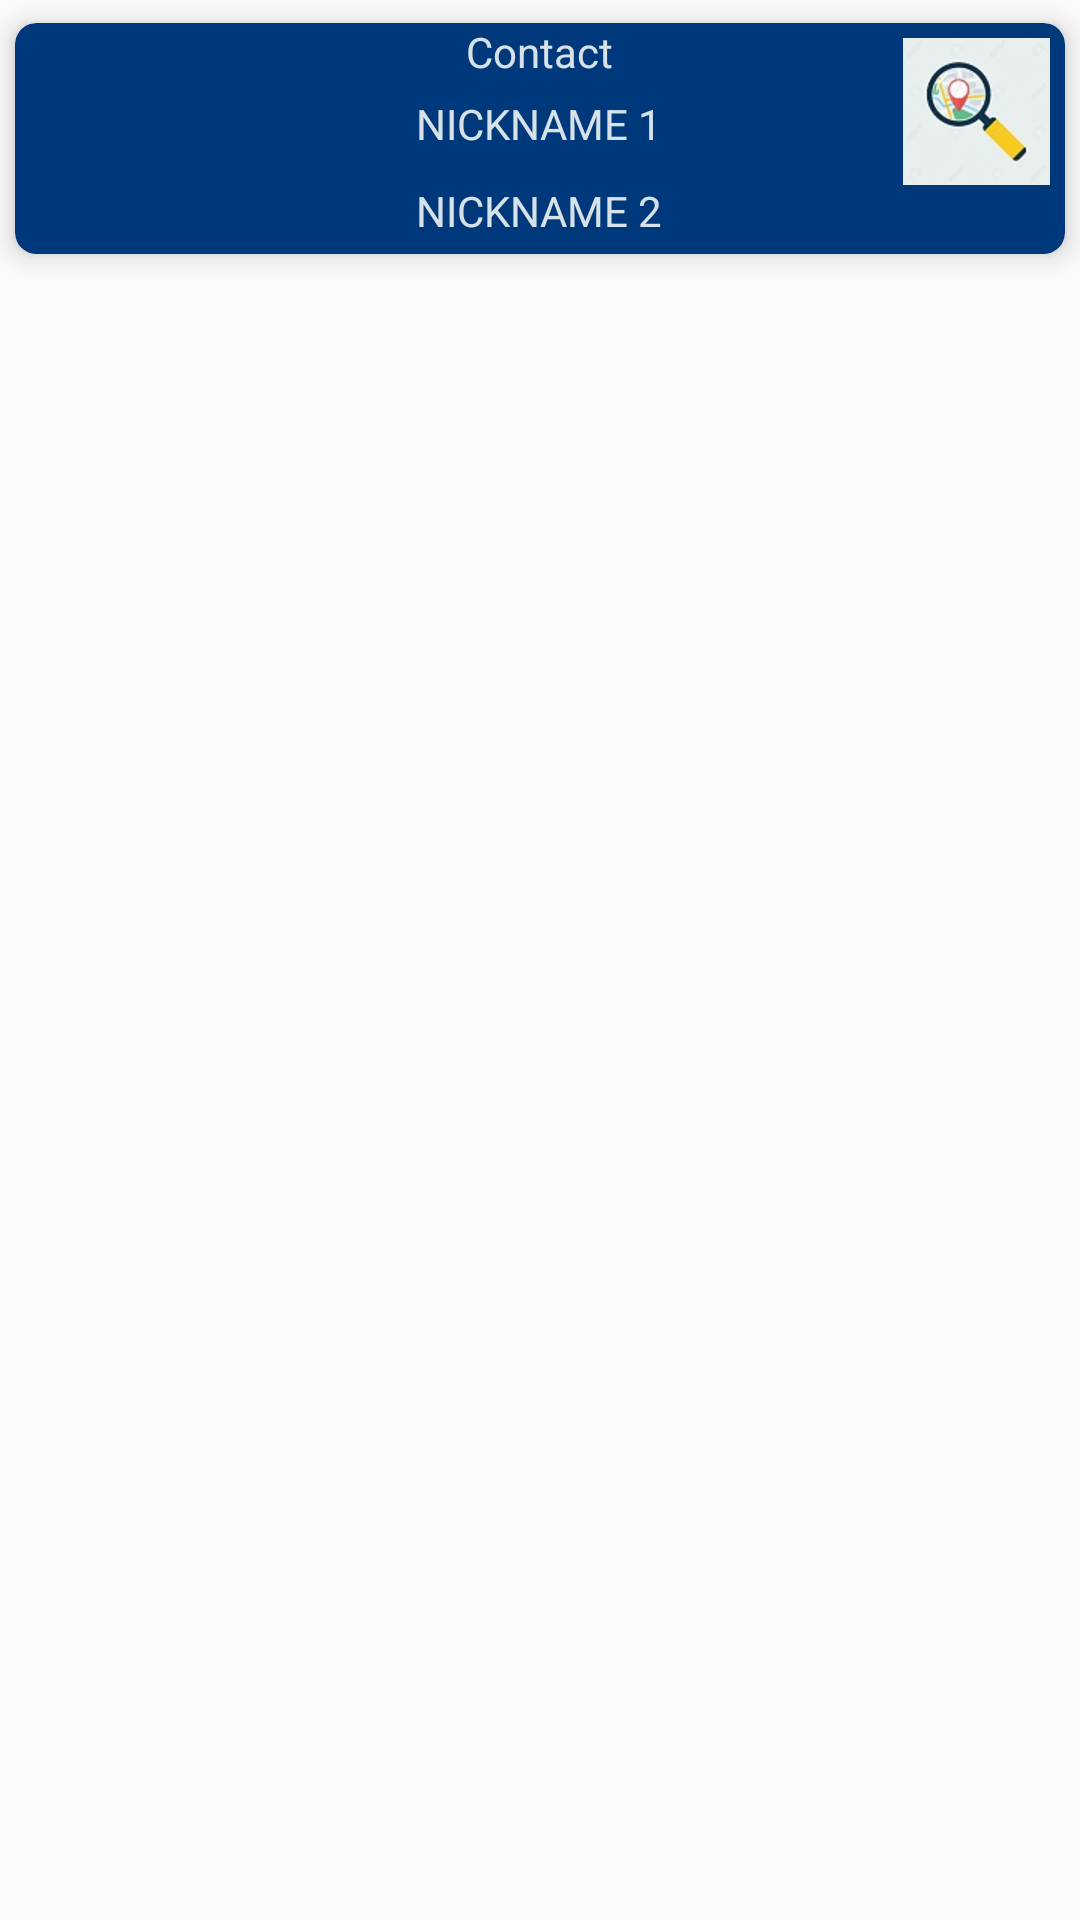

Icons on this 1080 × 1920 Android screen, each with its box as (x1, y1, x2, y2):
map search: (903, 38, 1050, 185)
